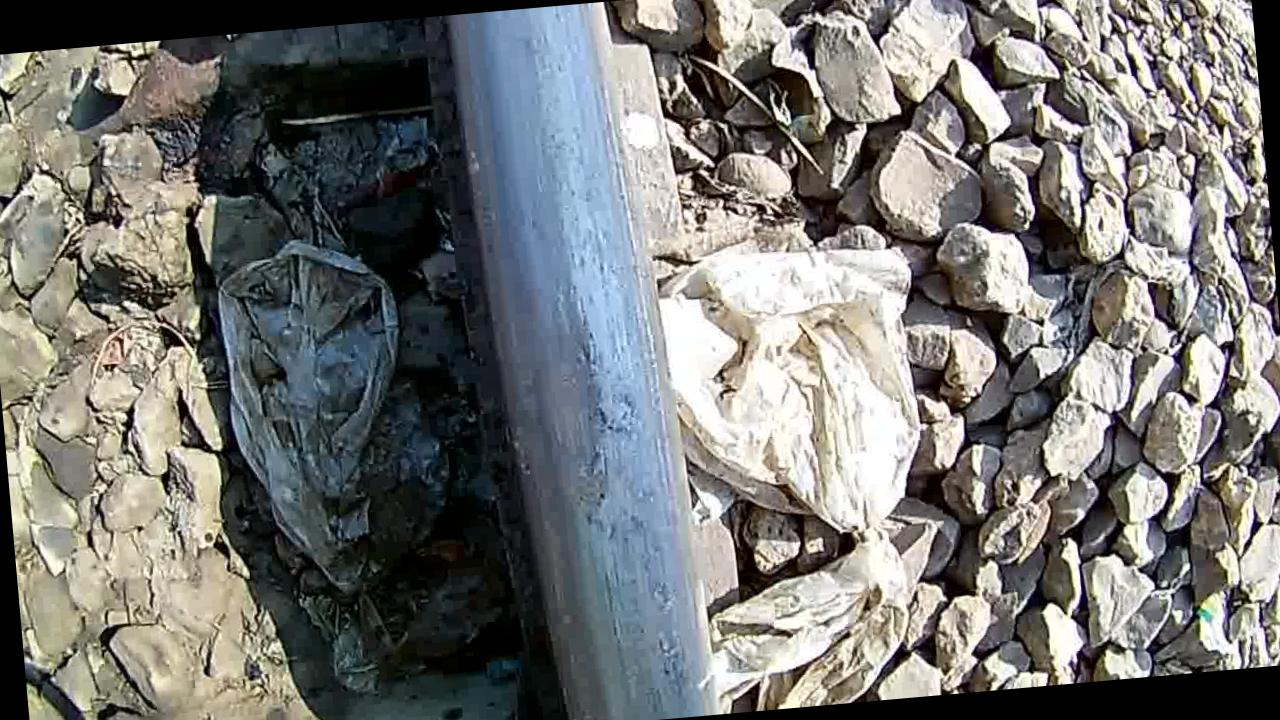bolt_missing: (450, 246, 712, 686)
